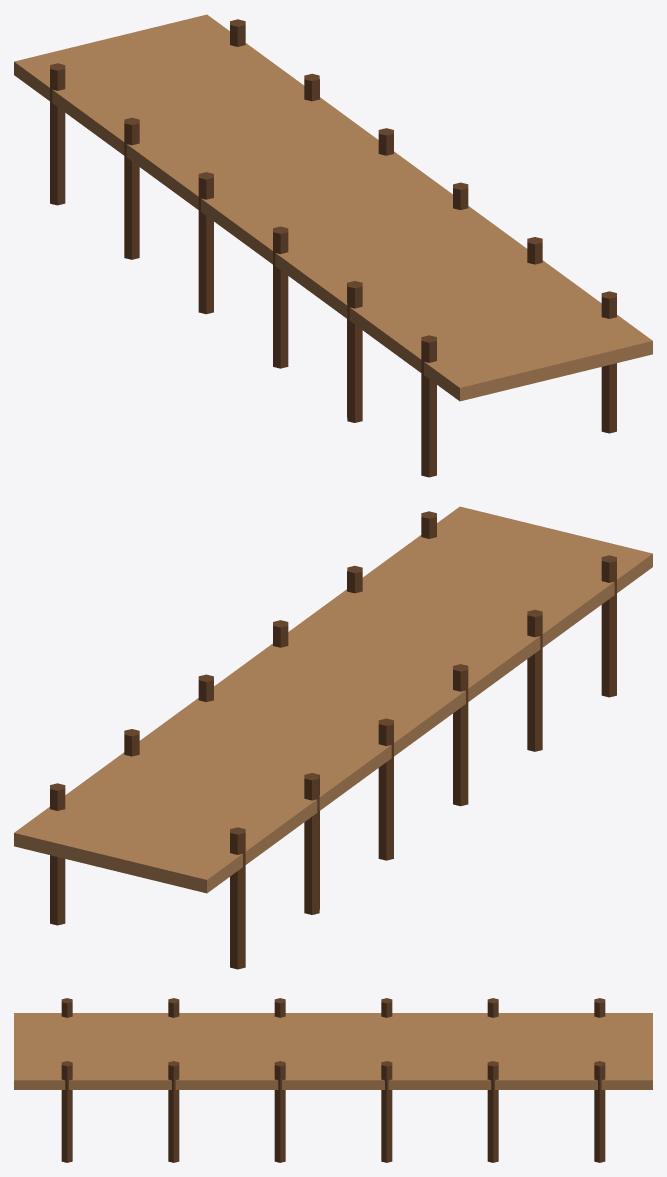
File: dock.glb
3 renders of one model, top to bottom at view 1: azimuth 30°, elevation 25°; view 2: azimuth 150°, elevation 25°; view 3: azimuth 270°, elevation 25°, orthographic. The views are drawn at different scales.
Visible parts, largest first — view 1: dock; view 2: dock; view 3: dock.
Boxes of the visible parts, bbox=[...] form: dock: bbox=[14, 14, 652, 477]; dock: bbox=[14, 506, 652, 969]; dock: bbox=[14, 998, 652, 1162].
Size of the model in its own units: 3.04 by 2 by 12.
